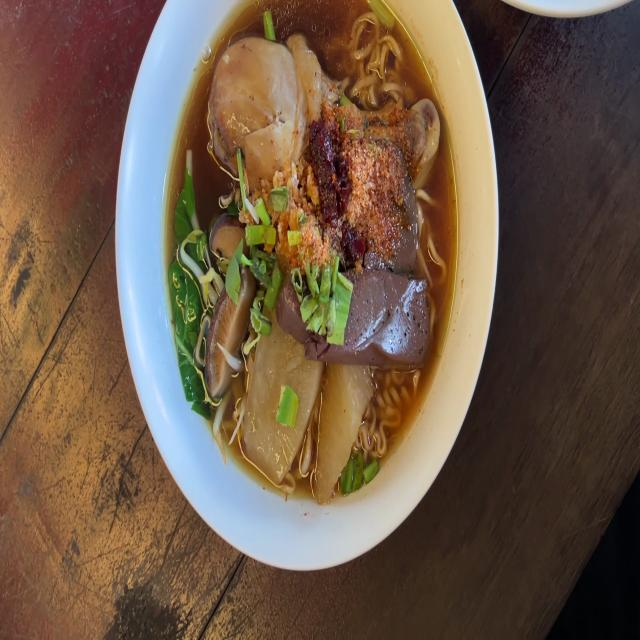noodle: (292, 264, 429, 367)
